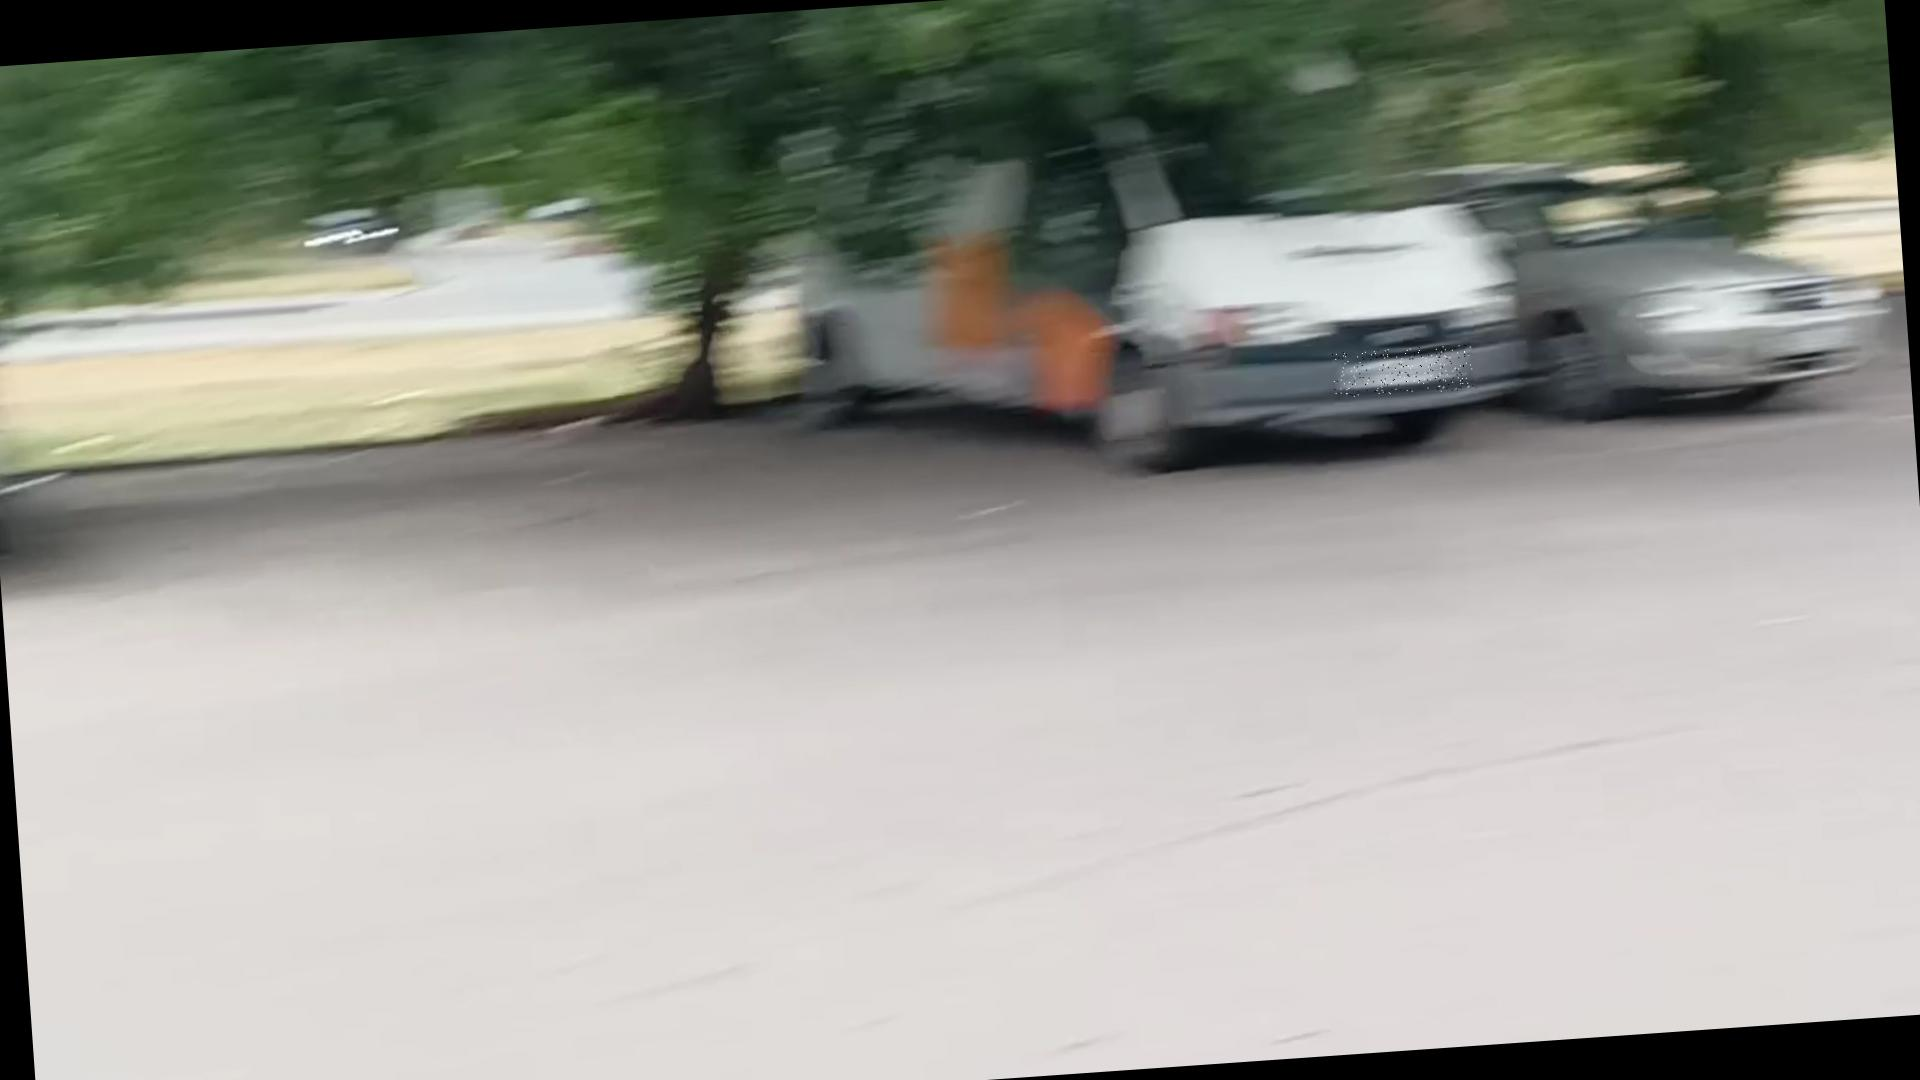plate: (1334, 344, 1477, 400)
